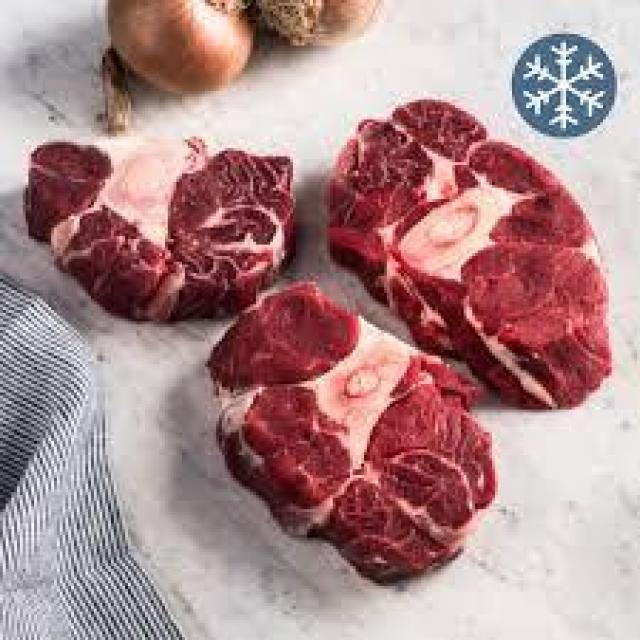beef: (212, 284, 496, 586)
